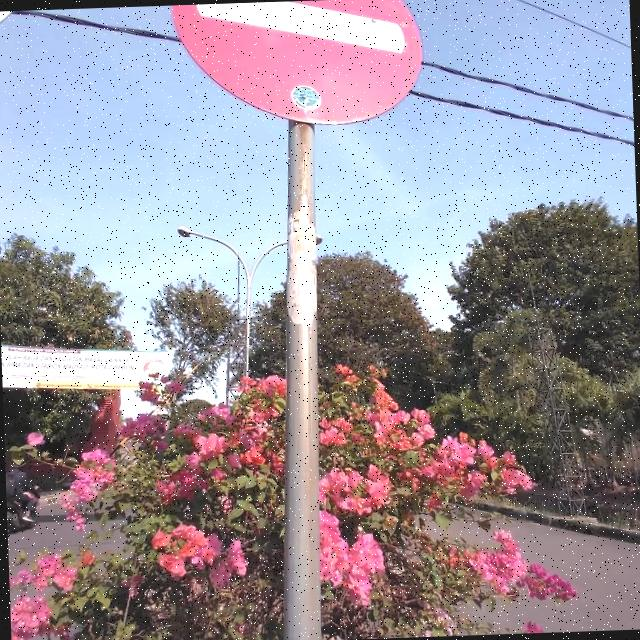Zakaz wjazdu: (177, 0, 423, 128)
